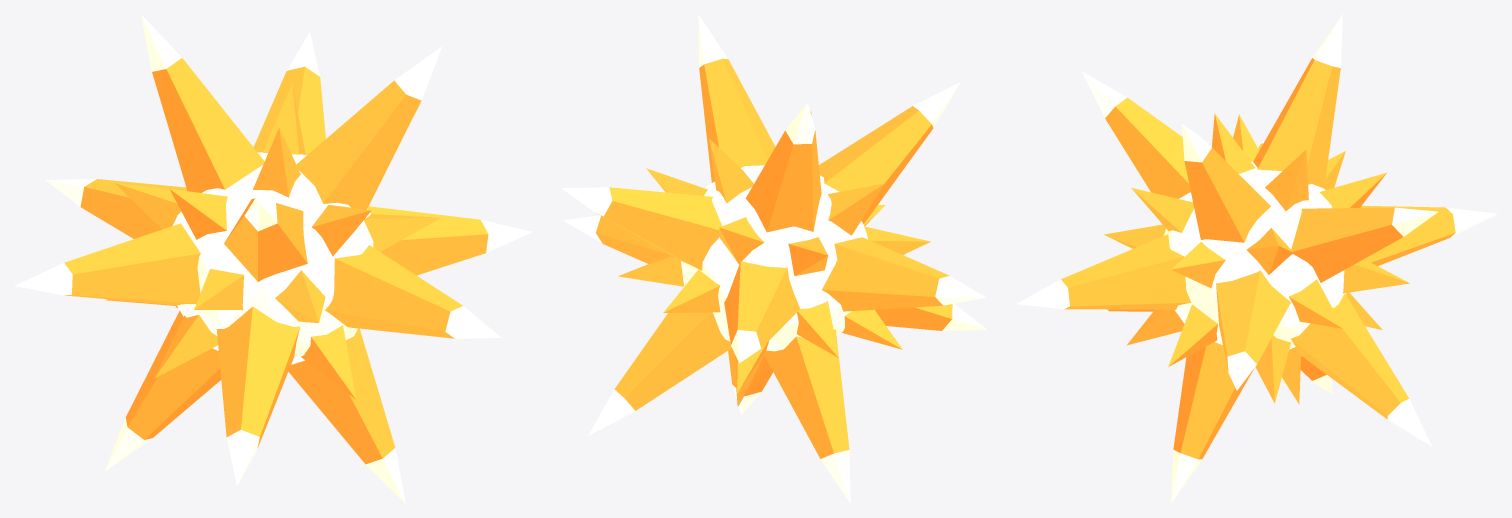
The model's file is spark.glb.
3 views of the same model, side by side, from view 1: azimuth 30°, elevation 25°; view 2: azimuth 150°, elevation 25°; view 3: azimuth 270°, elevation 25° (orthographic). The views are drawn at different scales.
Parts seen in each view (by area): view 1: spark; view 2: spark; view 3: spark.
Part boxes in pixels (left/top/right/bottom): spark: left=14, top=14, right=532, bottom=503; spark: left=561, top=14, right=987, bottom=503; spark: left=1016, top=14, right=1497, bottom=503.
Bounding box in the file's own units: 0.3572 × 0.3172 × 0.3333.
